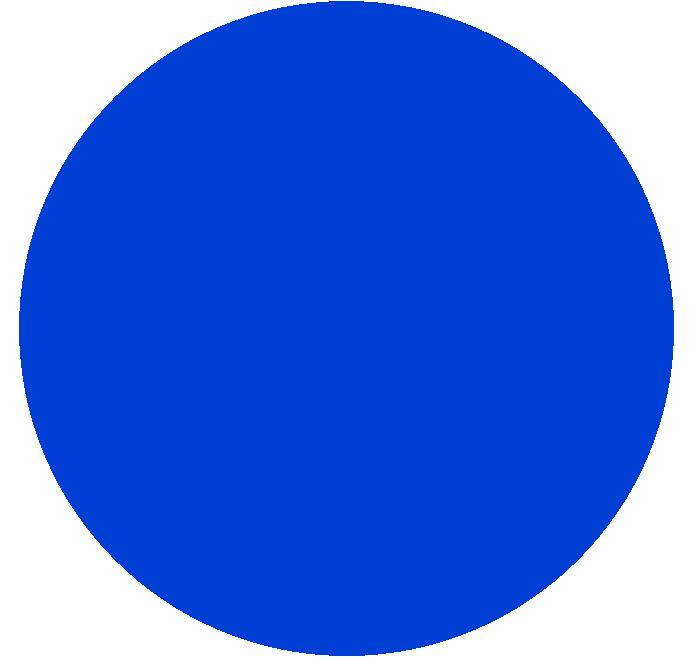blue_circle: (6, 0, 697, 667)
